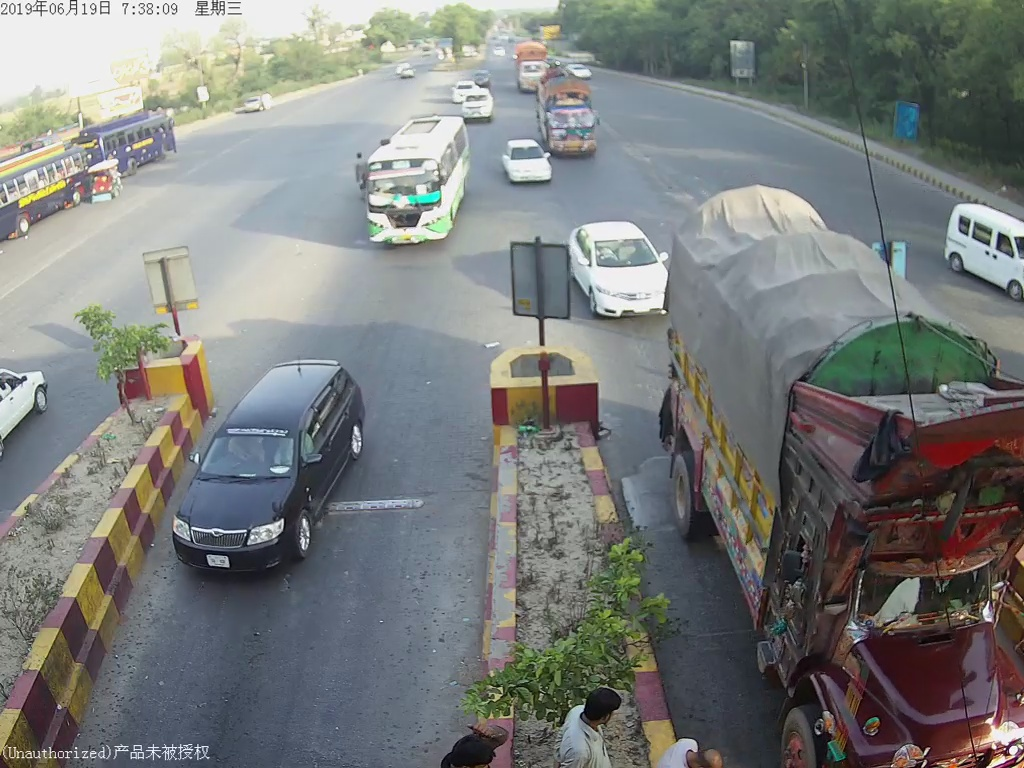Cat-1: (169, 362, 368, 577), (567, 220, 667, 319), (494, 136, 561, 187)
Cat-3: (365, 111, 465, 247)
Cat-4: (689, 215, 1024, 759), (538, 66, 596, 154)
